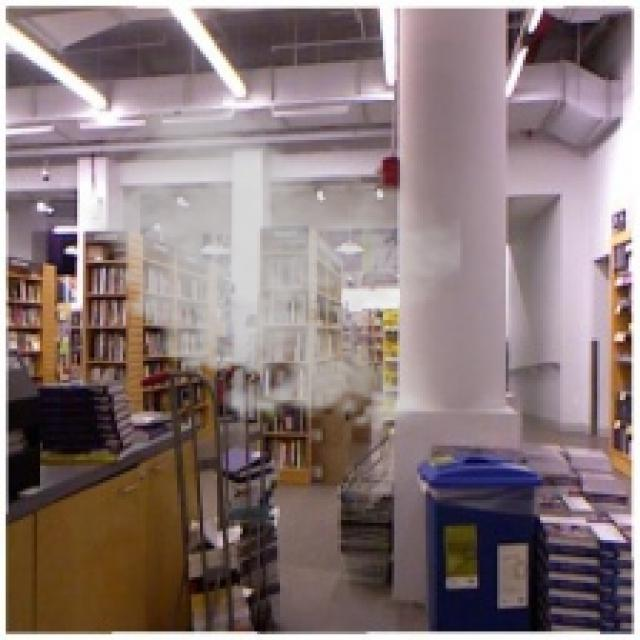smoke: (74, 94, 466, 440)
